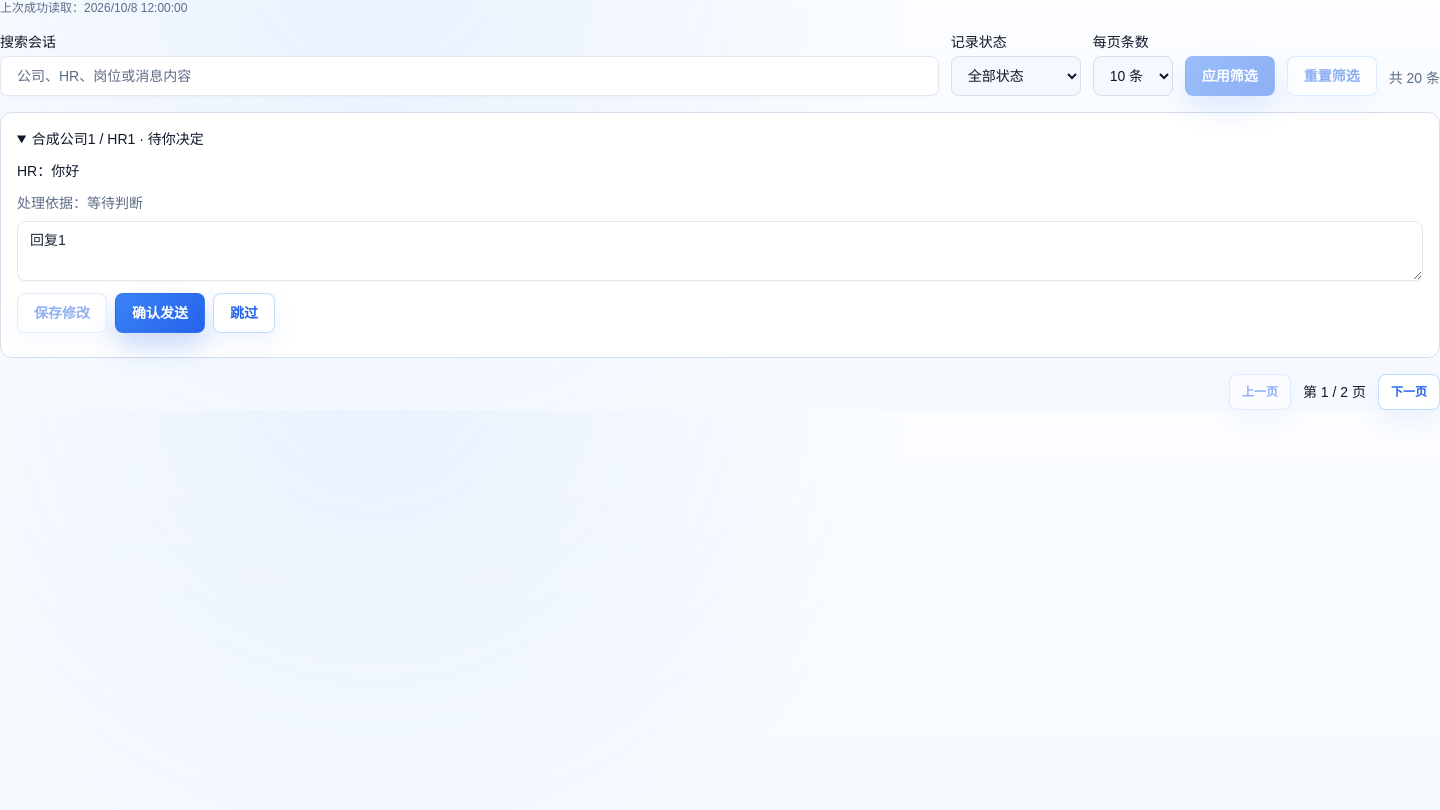
retains the last page and locks sending after a failed page read, then retries the requested page
This screenshot has width=1440, height=810.
Expected: the text box named "回复 HR1" is shown, [17, 221, 1423, 281]
Expected: the button "确认发送" is enabled, [115, 293, 205, 333]
Click the button "下一页". click: (1409, 392)
box: [1378, 374, 1439, 410]
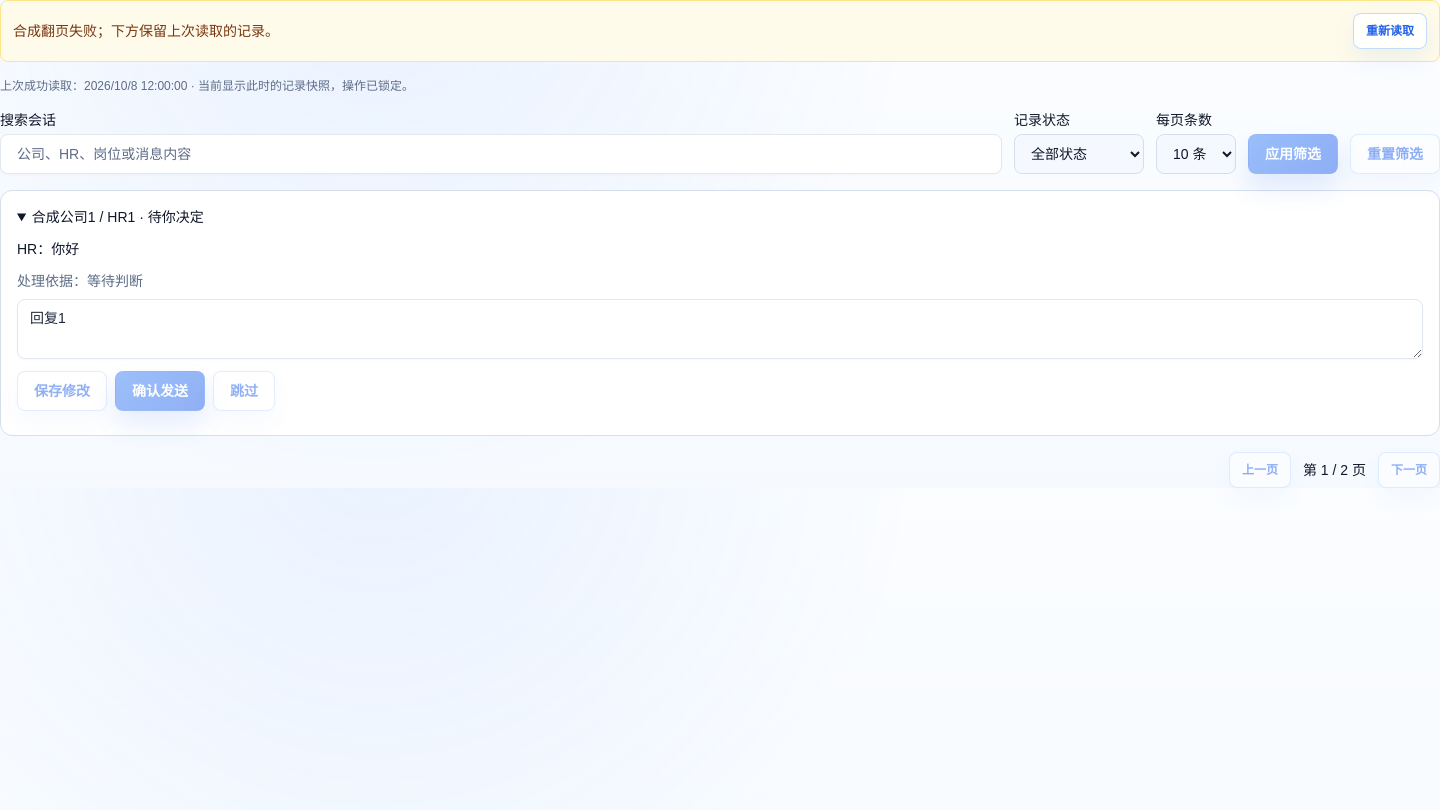
Expected: the message shows "下方保留上次读取的记录", [97, 23, 279, 39]
Expected: the button "确认发送" is disabled, [115, 371, 205, 411]
Expected: the button "跳过" is disabled, [213, 371, 275, 411]
Click the button "重新读取". click: (1390, 31)
box: [1353, 13, 1427, 49]
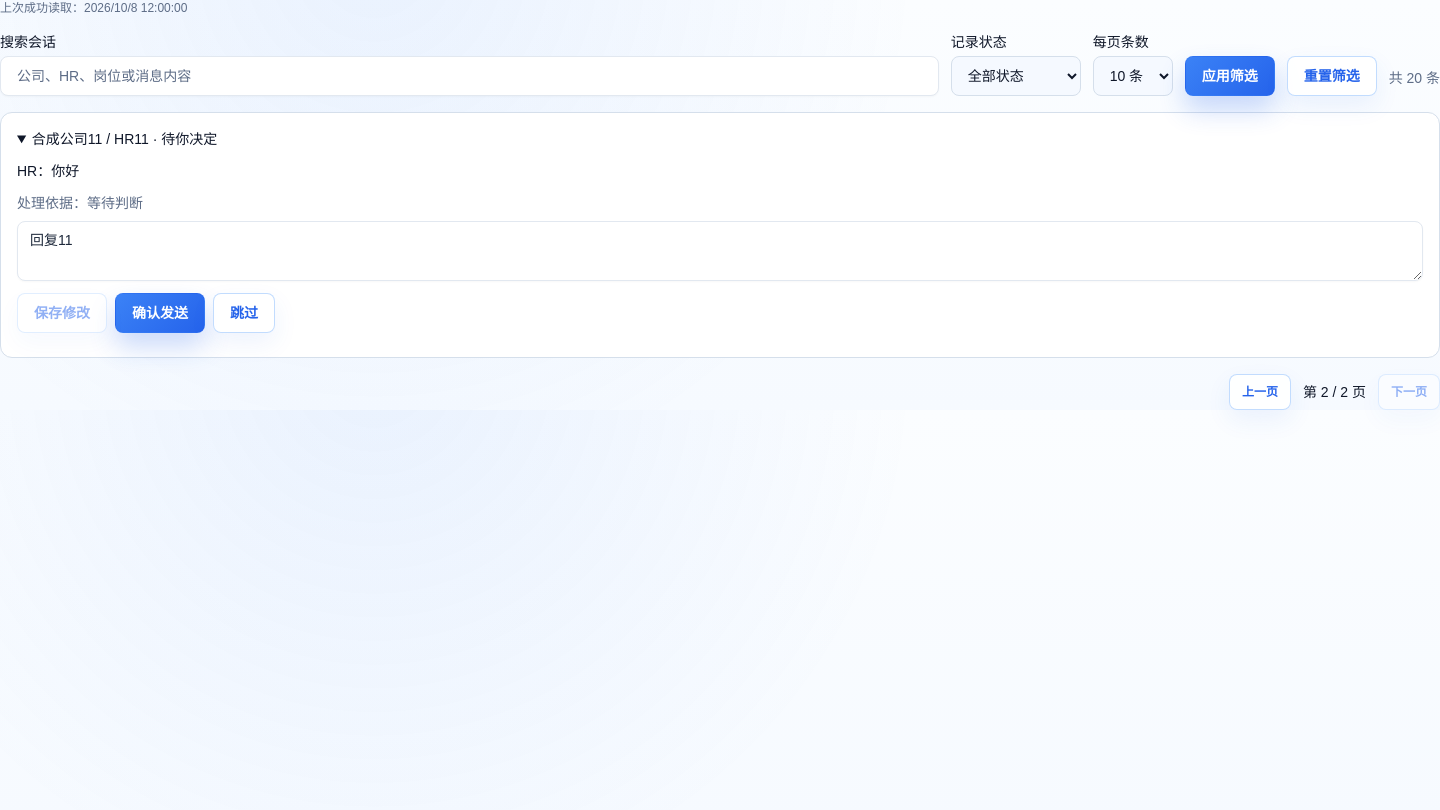
Expected: the text box named "回复 HR11" is shown, [17, 221, 1423, 281]
Expected: the message "合成翻页失败；下方保留上次读取的记录。 重新读取" is gone
Expected: the text "第 2 / 2 页" is shown, [1303, 382, 1366, 402]
